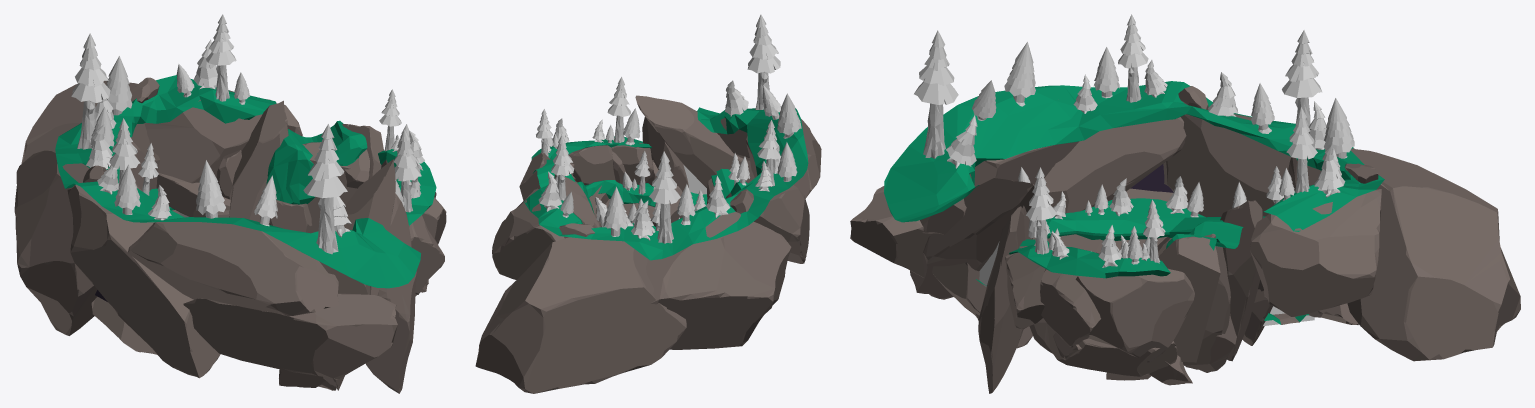
File: Village.fbx
3 renders of one model, left to right at view 1: azimuth 30°, elevation 25°; view 2: azimuth 150°, elevation 25°; view 3: azimuth 270°, elevation 25°, orthographic. The views are drawn at different scales.
Visible parts, largest first — view 1: Rock_002.004, Plane.005, Rock_002.003, Rock_002.002, Rock_002.001, Rock_002.010, Rock_002.017, Plane, Rock_002.014, Rock_002.000, TWEE.009, Rock_002.013 (+24 smaller); view 2: Rock_002.000, Rock_002.001, Plane.005, Rock_002.013, Rock_002.017, Rock_002.002, Rock_002.010, TWEE.009, Plane.004, Rock_002.008, TWEE.008, Rock_002.004 (+24 smaller); view 3: Rock_002.000, Plane.005, Rock_002.010, Rock_002.017, Rock_002.001, Rock_002.002, Rock_002.007, Rock_002.013, Rock_002.014, Plane.004, Rock_002.003, Rock_002.008 (+20 smaller).
Boxes of the visible parts, box(x1,y1,x2,y2) form: Rock_002.004: box(127, 222, 338, 316); Plane.005: box(55, 75, 420, 288); Rock_002.003: box(183, 293, 397, 379); Rock_002.002: box(67, 184, 220, 378); Rock_002.001: box(14, 150, 97, 335); Rock_002.010: box(91, 100, 428, 390); Rock_002.017: box(144, 90, 302, 183); Plane: box(266, 120, 367, 204); Rock_002.014: box(365, 193, 416, 393); Rock_002.000: box(21, 81, 160, 190); TWEE.009: box(303, 124, 347, 254); Rock_002.013: box(323, 159, 395, 390); Rock_002.000: box(475, 237, 686, 393); Rock_002.001: box(646, 211, 791, 349); Plane.005: box(524, 107, 808, 260); Rock_002.013: box(635, 95, 742, 188); Rock_002.017: box(492, 188, 584, 279); Rock_002.002: box(754, 185, 809, 263); Rock_002.010: box(519, 152, 731, 227); TWEE.009: box(747, 14, 780, 109); Plane.004: box(585, 168, 747, 206); Rock_002.008: box(568, 145, 615, 185); TWEE.008: box(649, 151, 680, 243); Rock_002.004: box(746, 119, 821, 198); Rock_002.000: box(1288, 149, 1520, 361); Plane.005: box(884, 81, 1384, 231); Rock_002.010: box(932, 188, 1358, 385); Rock_002.017: box(1250, 188, 1381, 316); Rock_002.001: box(1163, 114, 1355, 217); Rock_002.002: box(1044, 117, 1186, 213); Rock_002.007: box(1075, 268, 1194, 362); Rock_002.013: box(910, 178, 1034, 299); Rock_002.014: box(978, 205, 1032, 393); Plane.004: box(1046, 198, 1265, 240); Rock_002.003: box(850, 186, 931, 277); Rock_002.008: box(1040, 252, 1100, 347).
Bounding box in the file's own units: 8023 × 6745 × 12963.
